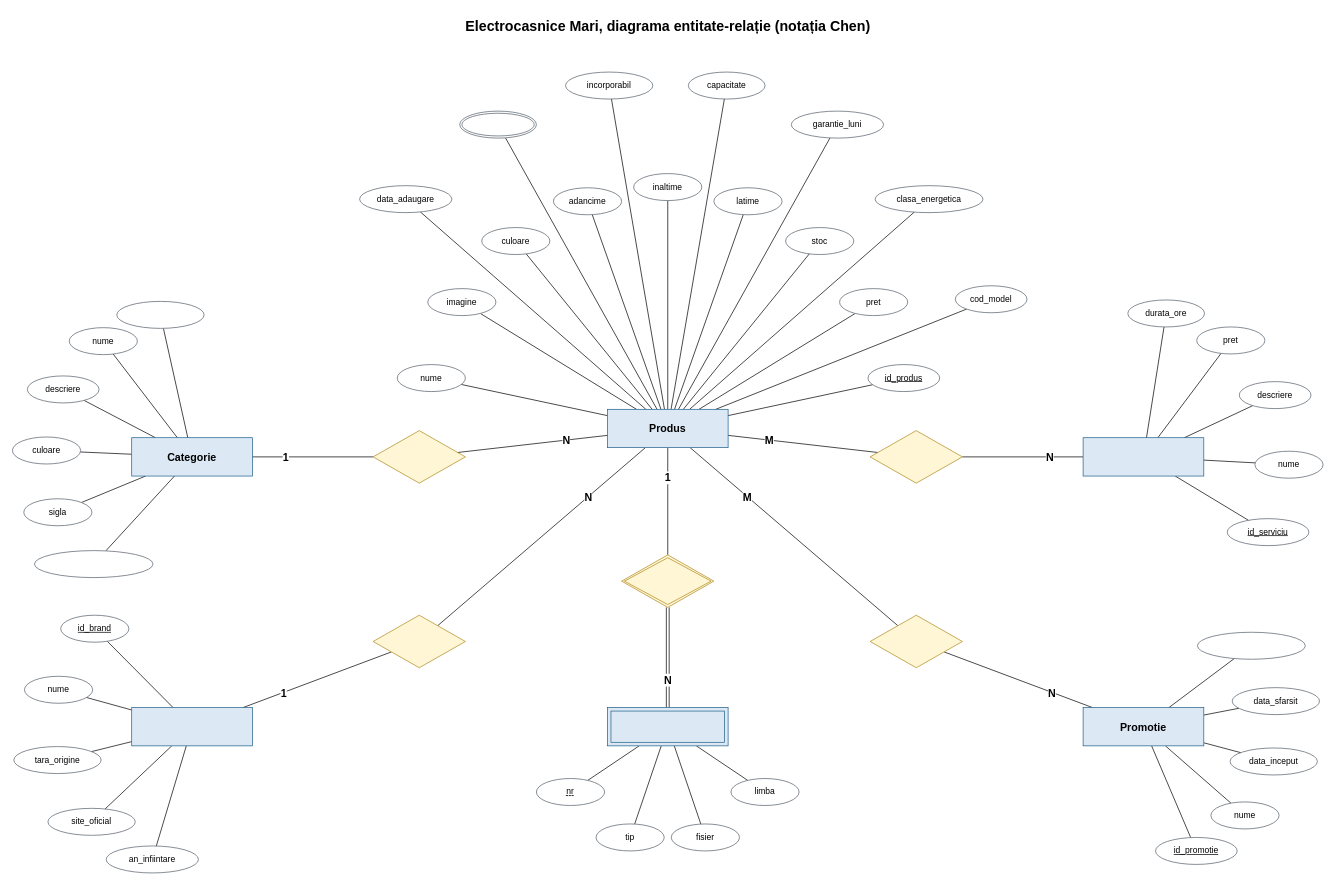
This 1336x885 diagram has some shape labels left out. Here are the shapes that lost their labels. From the top down, the box of each, then its label:
(459, 110, 536, 138): tehnologii
(116, 301, 204, 328): id_categorie
(372, 430, 465, 483): conține
(869, 430, 962, 483): disponibil pentru
(1082, 437, 1204, 476): ServiciuAditional
(34, 550, 153, 578): unitate_capacitate
(621, 554, 714, 607): are
(372, 615, 465, 668): fabrică
(869, 615, 962, 668): inclus în
(1197, 632, 1305, 659): procent_reducere
(131, 707, 252, 746): Brand
(607, 707, 728, 746): DocumentProdus
